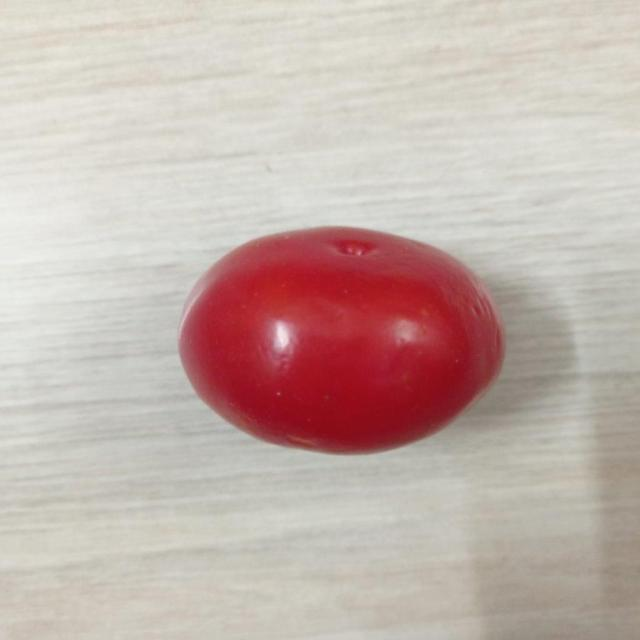Tomato: (178, 221, 508, 458)
